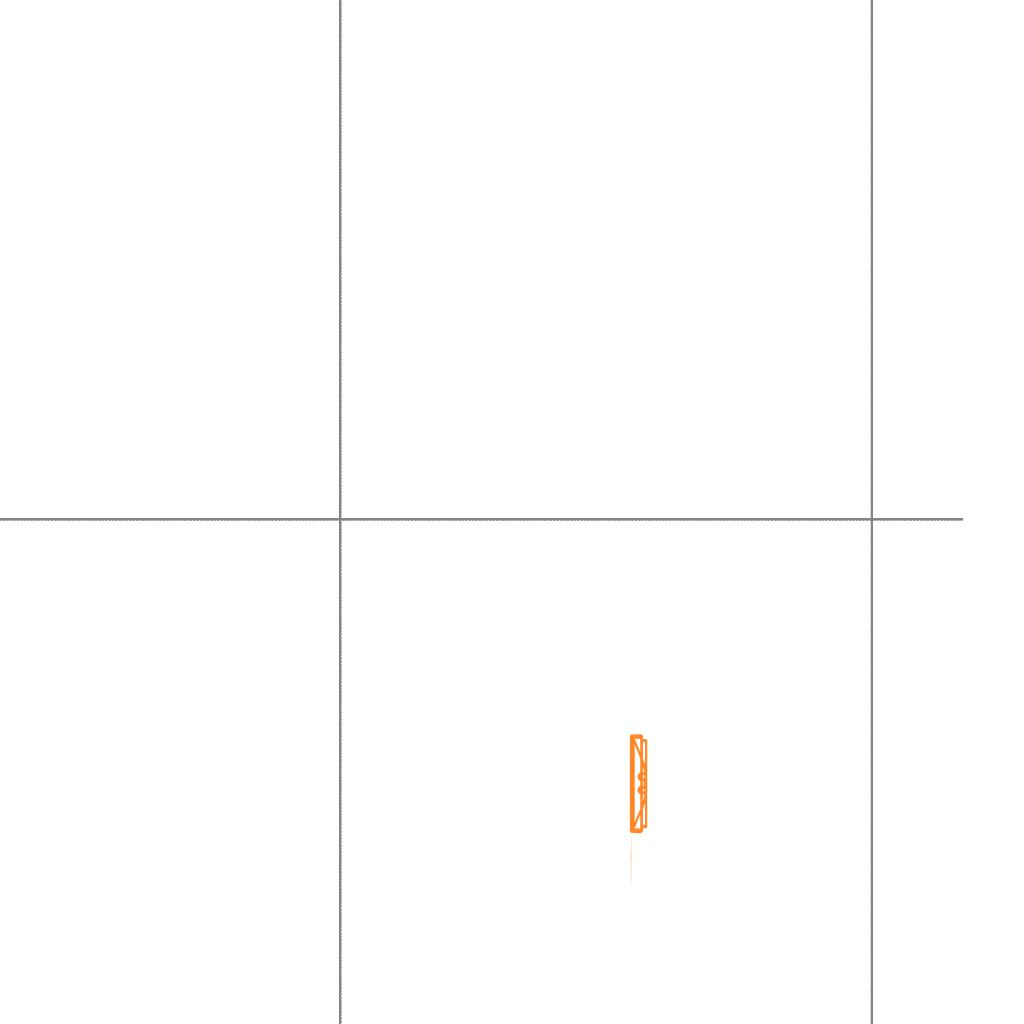Sicherheitsleuchte_Wandeinbau: (627, 729, 652, 888)
